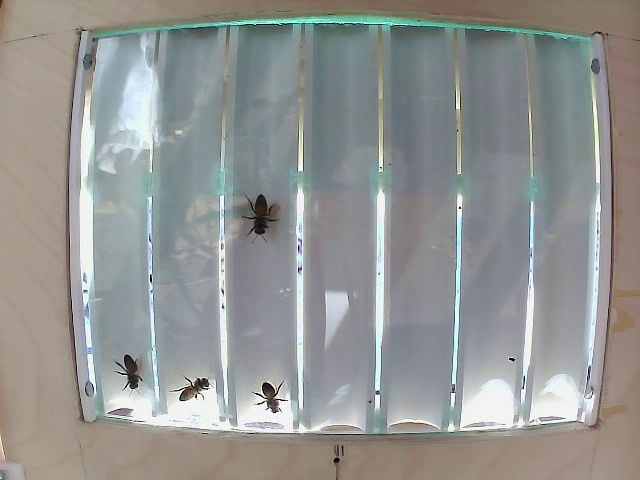bee: (255, 372, 305, 433), (237, 189, 292, 238), (98, 347, 146, 390), (165, 365, 207, 405)
